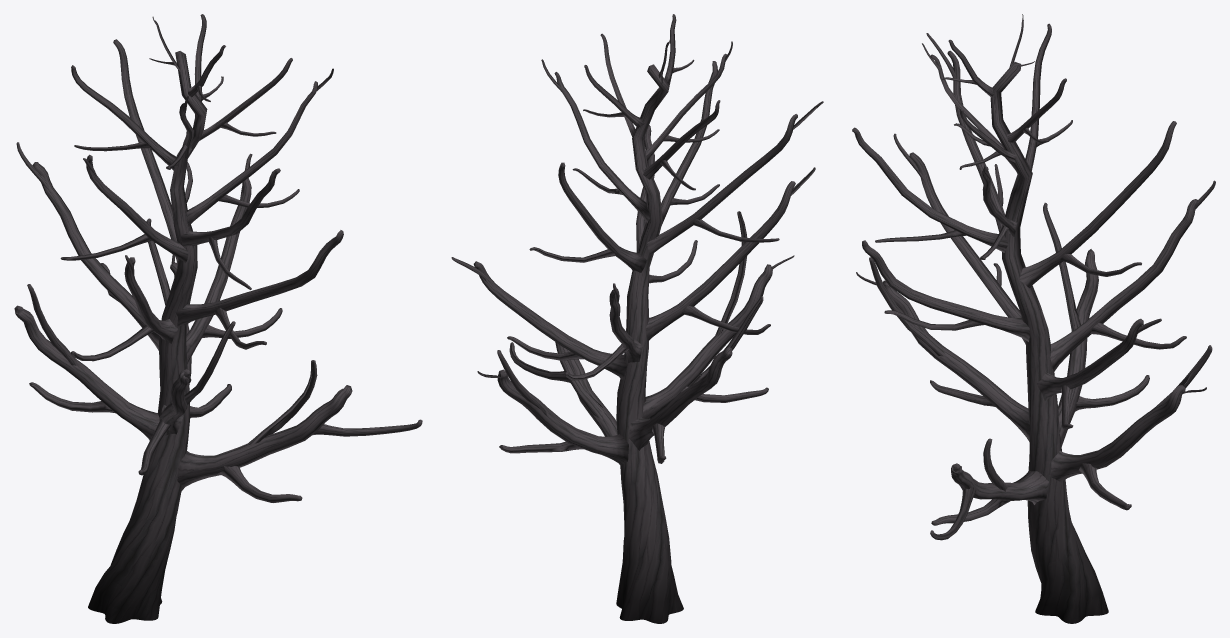
The model's file is DeadTree_2.gltf.
3 renders of one model, left to right at view 1: azimuth 30°, elevation 25°; view 2: azimuth 150°, elevation 25°; view 3: azimuth 270°, elevation 25°, orthographic. The views are drawn at different scales.
Visible parts, largest first — view 1: DeadTree_2; view 2: DeadTree_2; view 3: DeadTree_2.
Boxes of the visible parts, box(x1,y1,x2,y2) form: DeadTree_2: box(14, 14, 422, 623); DeadTree_2: box(451, 14, 823, 623); DeadTree_2: box(852, 14, 1215, 623).
Size of the model in its own units: 6.73 by 11.49 by 6.38.
1 material, 1 textured.
